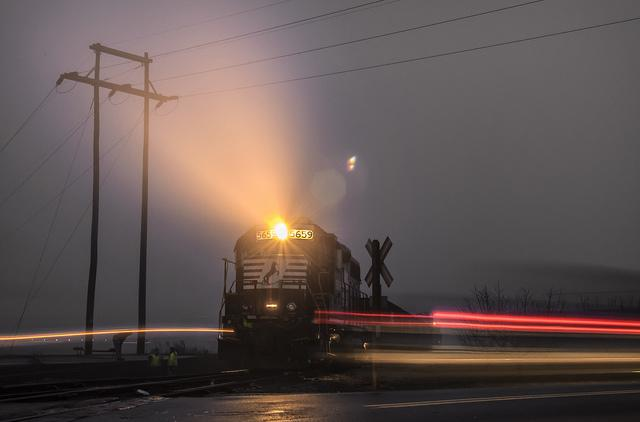Train: (214, 218, 406, 376)
